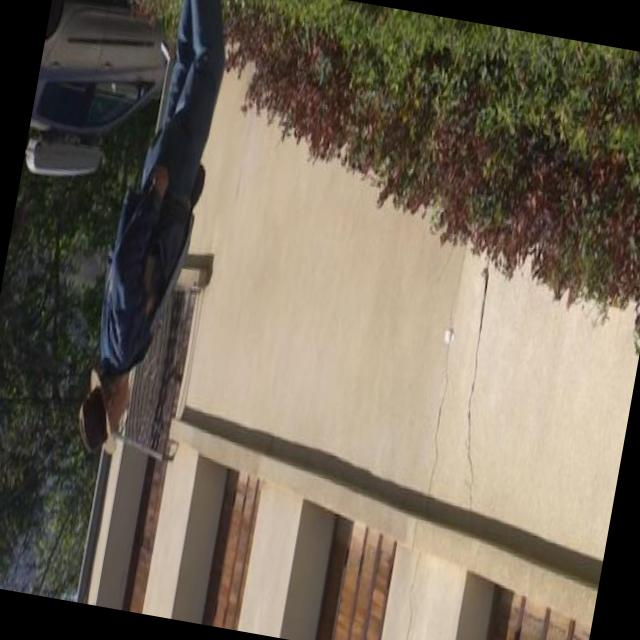crack: (465, 266, 490, 511), (424, 347, 450, 499), (404, 551, 420, 640)
